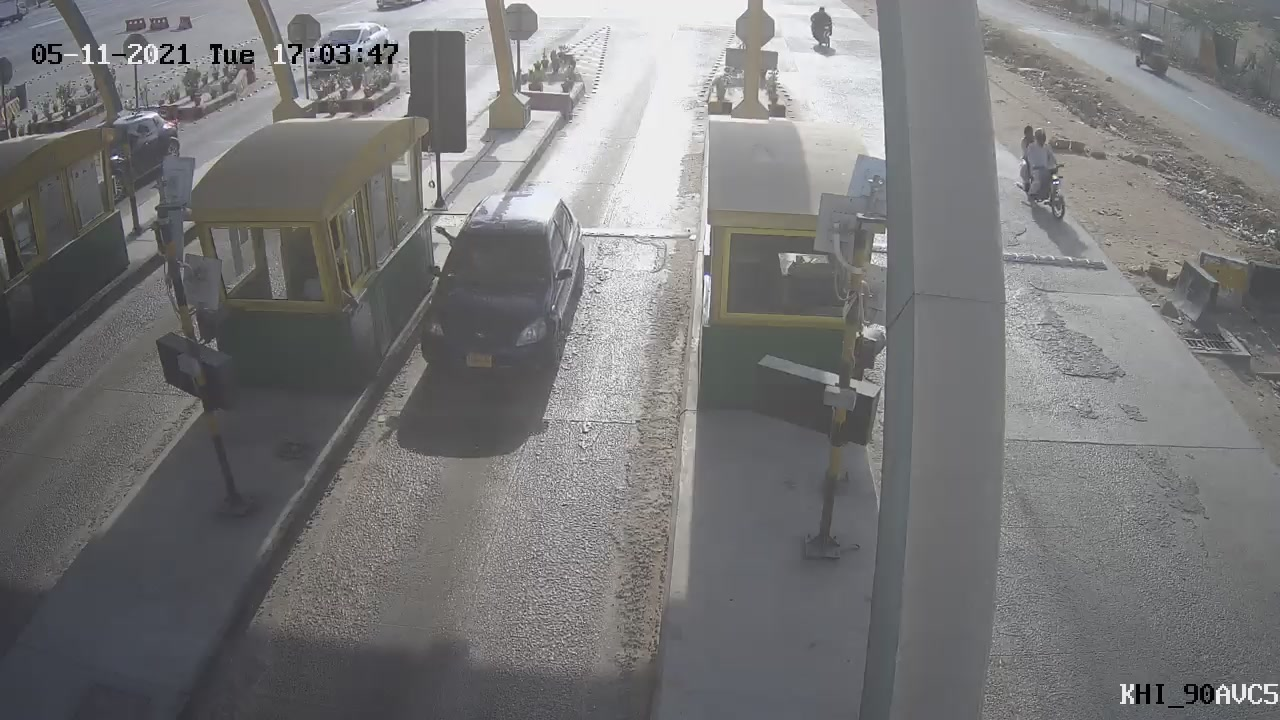F1: (392, 170, 607, 409)
